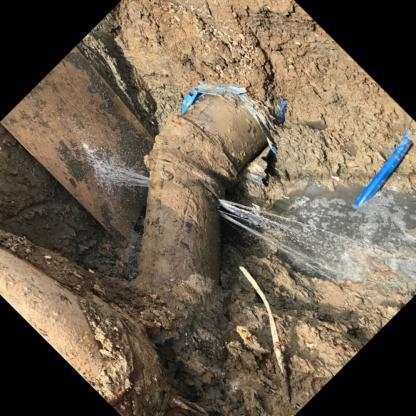burst: (205, 178, 268, 244), (118, 169, 165, 203)
